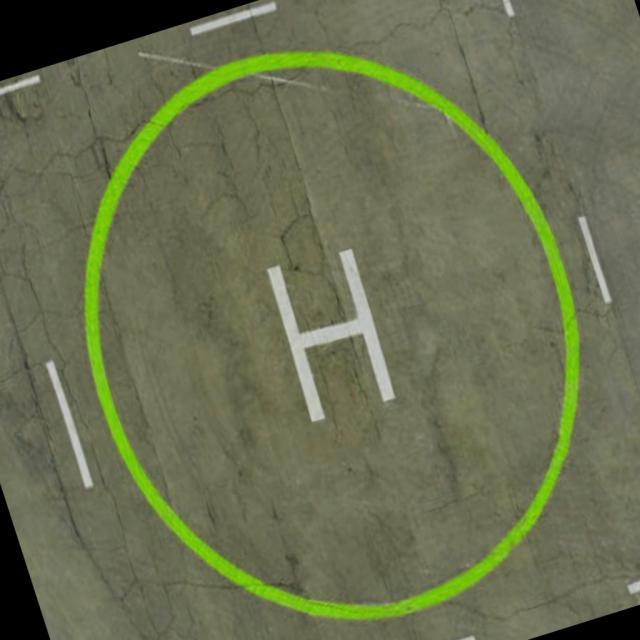helipad: (77, 44, 588, 622)
